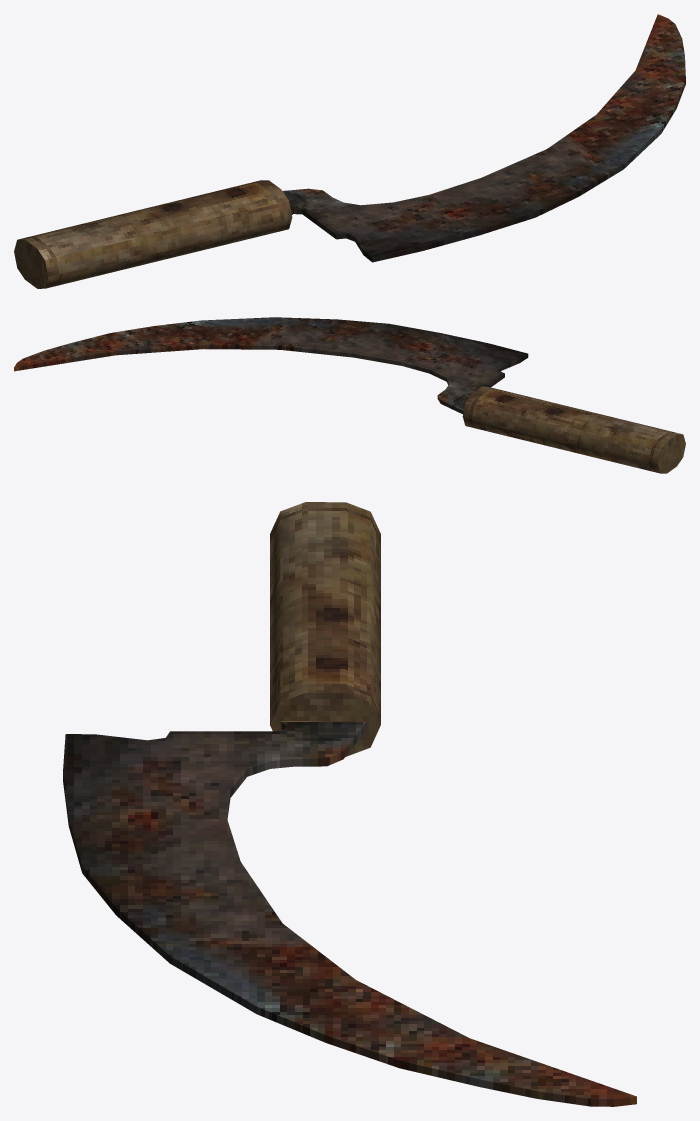
Rendered from sickle_mx_1.glb.
The picture shows the model from 3 angles, top to bottom: view 1: azimuth 30°, elevation 25°; view 2: azimuth 150°, elevation 25°; view 3: azimuth 270°, elevation 25°; orthographic projection. The views are drawn at different scales.
Visible parts, largest first — view 1: sickle_mx_1; view 2: sickle_mx_1; view 3: sickle_mx_1.
Part boxes in pixels (x1=…): sickle_mx_1: x1=14, y1=14, x2=685, y2=288; sickle_mx_1: x1=14, y1=317, x2=685, y2=473; sickle_mx_1: x1=63, y1=502, x2=636, y2=1106.
Bounding box in the file's own units: 0.4752 × 0.025 × 0.2027.
Materials: 1 (1 with a texture image).
